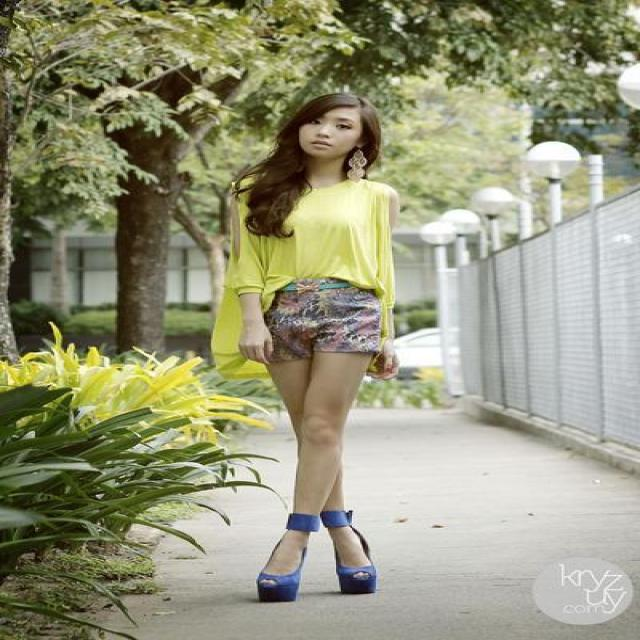shirt: (208, 179, 397, 379)
shoe: (250, 508, 374, 602)
skirt: (264, 276, 397, 362)
